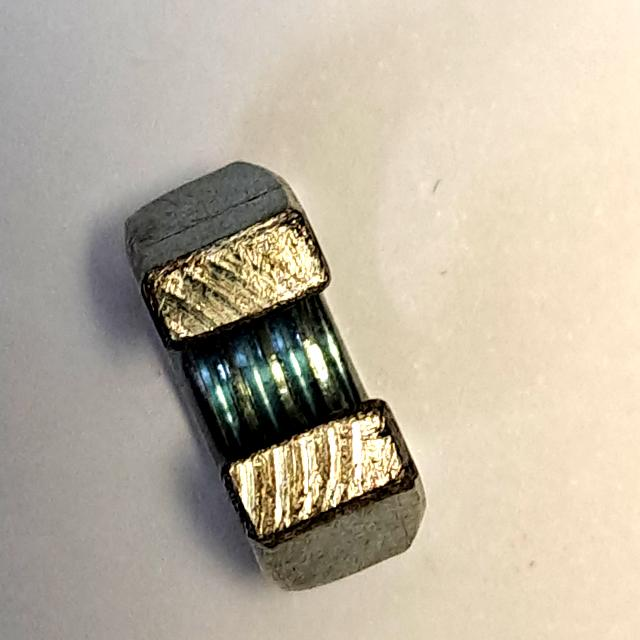Side-Fracture: (106, 141, 438, 606)
